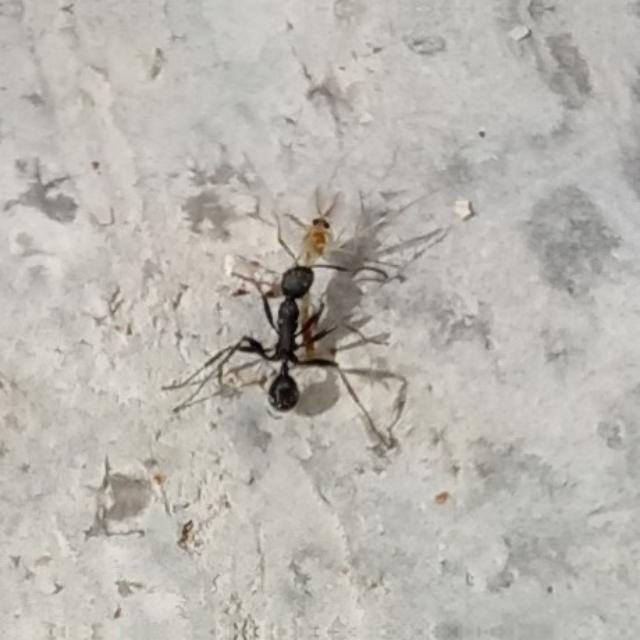Apheanogaster: (225, 196, 373, 434)
